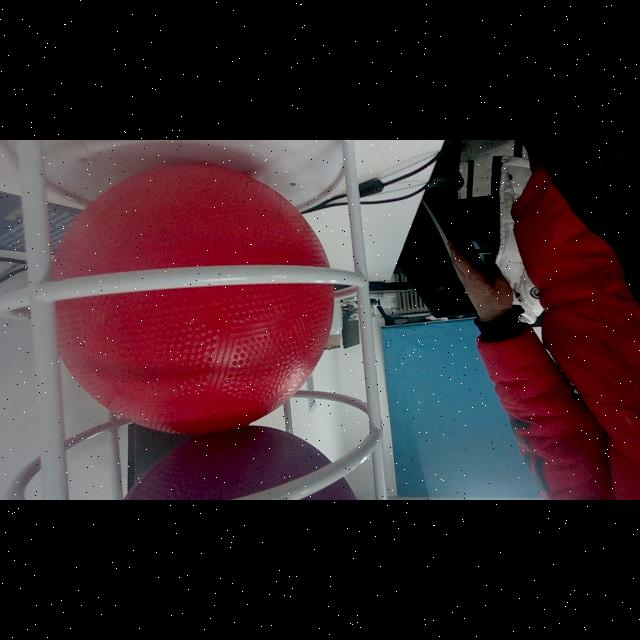P: (118, 424, 370, 500)
R: (46, 170, 332, 438)
S: (7, 140, 386, 500)
